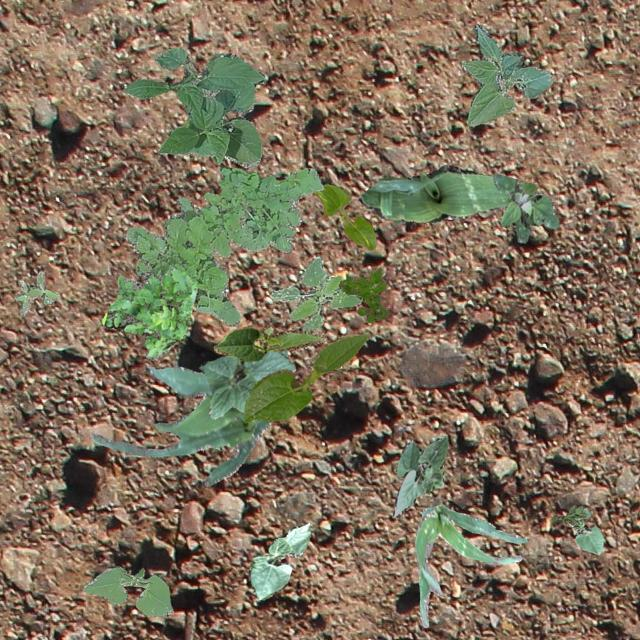crop: (90, 348, 286, 486), (122, 46, 264, 168), (414, 504, 526, 626), (242, 332, 368, 422), (461, 24, 552, 124), (358, 164, 510, 222), (198, 350, 294, 418), (248, 522, 310, 598), (82, 566, 172, 616), (392, 436, 446, 516), (312, 182, 376, 248), (212, 324, 326, 361), (570, 506, 602, 554)
weed: (125, 164, 322, 324), (100, 268, 194, 360), (268, 256, 360, 332), (493, 172, 559, 242), (338, 266, 387, 322), (13, 270, 58, 314), (550, 504, 586, 524)
